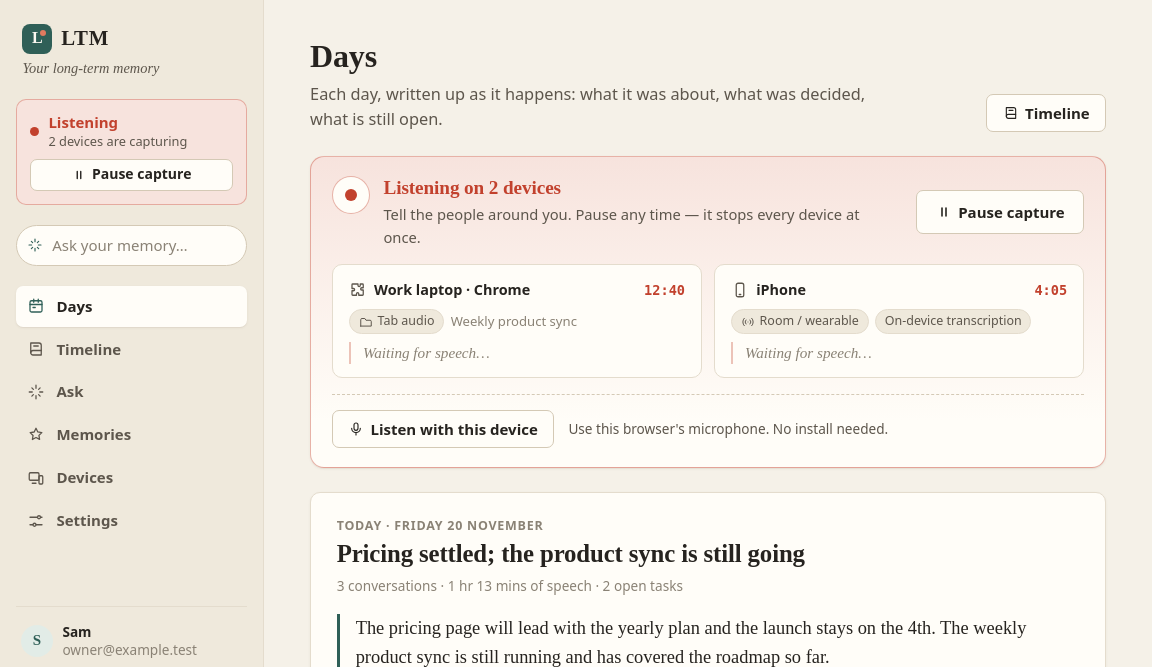
Test: live events › uses POST /capture/pause for the kill switch
Check: the heading "Listening on 2 devices" is shown, box left=384, top=177, right=561, bottom=198
Click the button "Pause capture" below "2 devices are capturing". click: (132, 175)
box: left=30, top=159, right=233, bottom=191
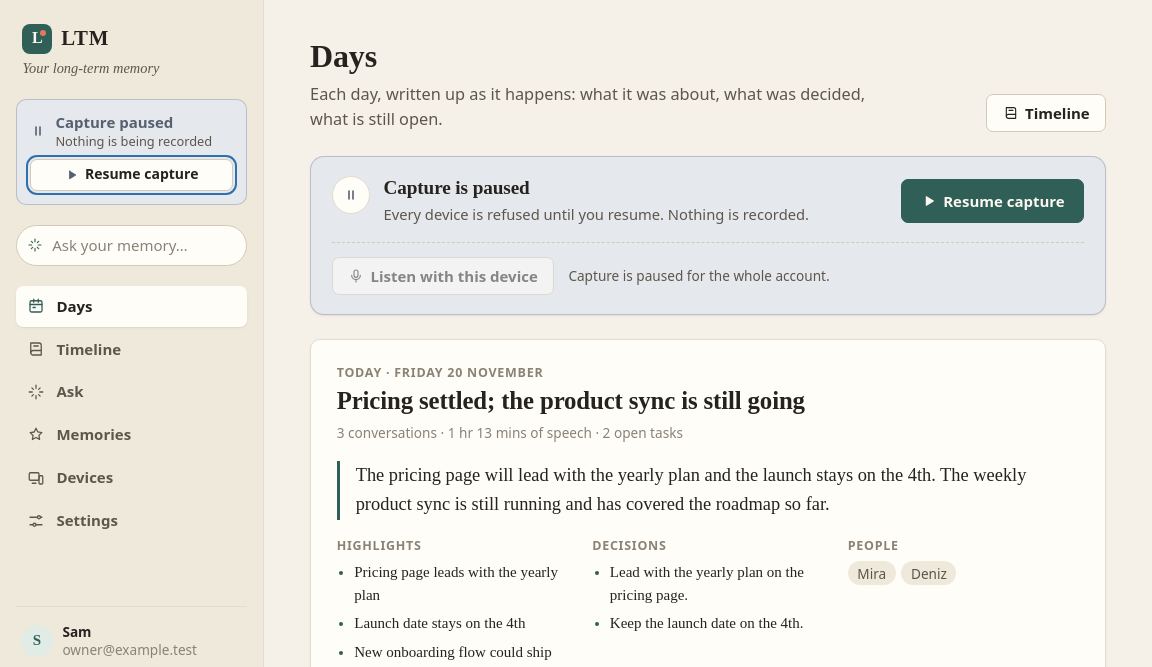
Check: the heading "Capture is paused" is shown, box left=384, top=177, right=530, bottom=198
